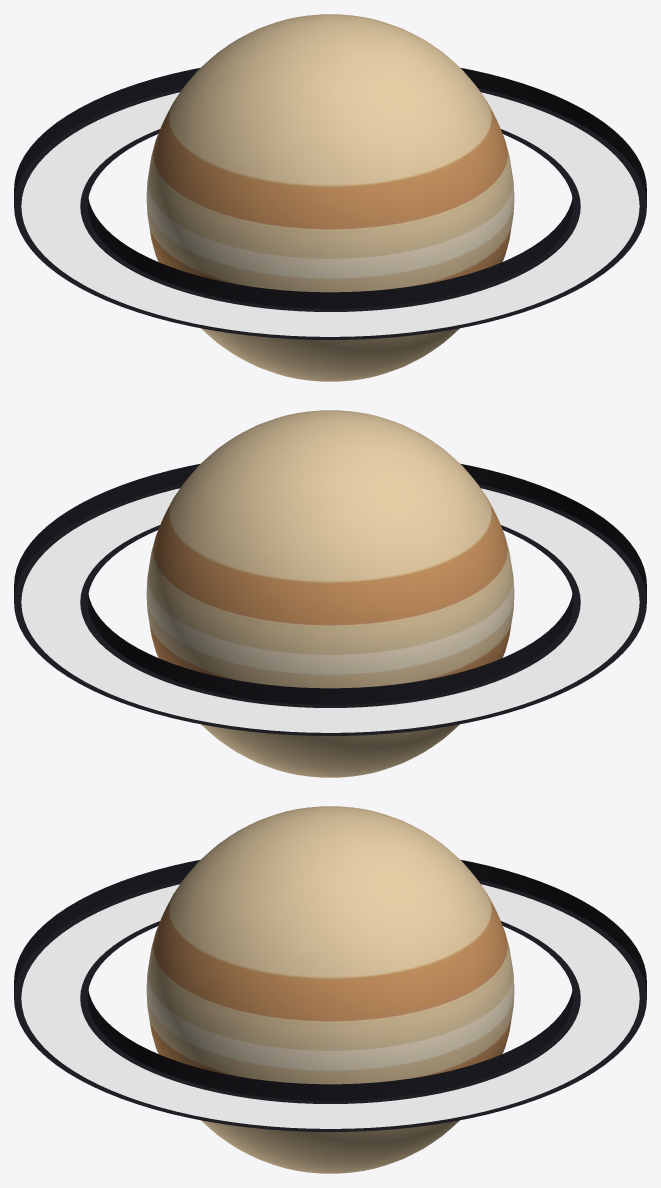
Rendered from ball_jupiter.glb.
3 views of the same model, one above another, from view 1: azimuth 30°, elevation 25°; view 2: azimuth 150°, elevation 25°; view 3: azimuth 270°, elevation 25° (orthographic).
Parts seen in each view (by area): view 1: ball_jupiter, ring; view 2: ball_jupiter, ring; view 3: ball_jupiter, ring.
Part boxes in pixels (bbox=[...]): ball_jupiter: bbox=[146, 14, 514, 381]; ring: bbox=[14, 68, 646, 339]; ball_jupiter: bbox=[146, 410, 514, 777]; ring: bbox=[14, 464, 646, 735]; ball_jupiter: bbox=[146, 806, 514, 1173]; ring: bbox=[14, 860, 646, 1131].
Bounding box in the file's own units: 1.72 × 1 × 1.72.
Materials: 2 (1 with a texture image).
